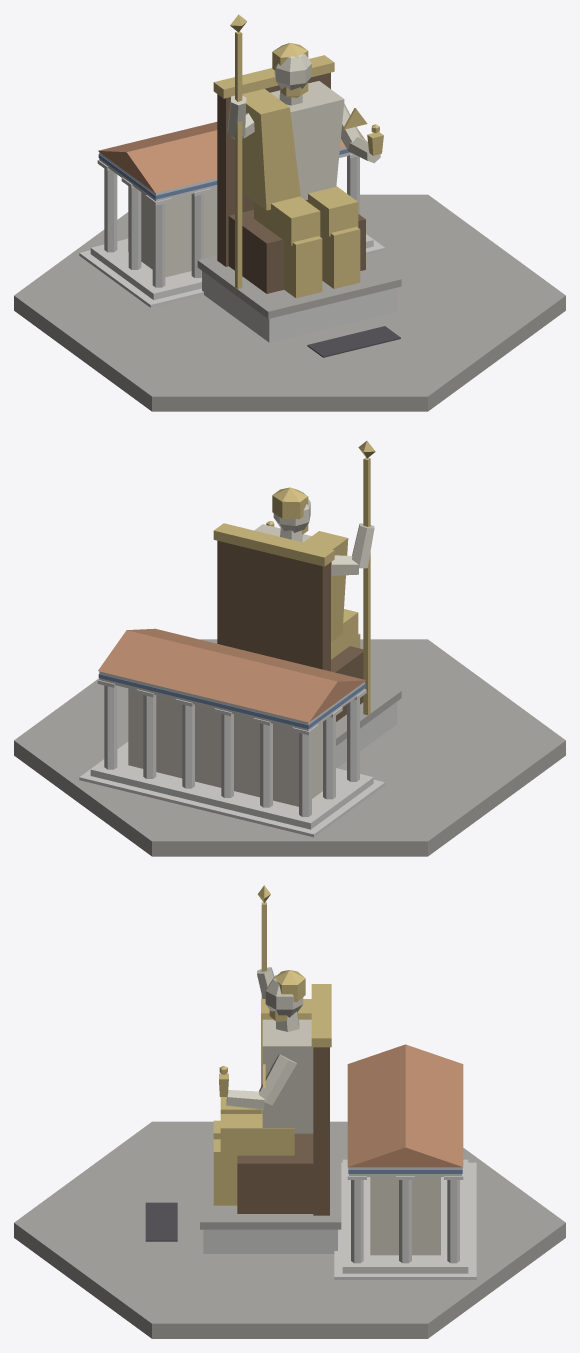
Rendered from statue-of-zeus.glb.
The picture shows the model from 3 angles, top to bottom: view 1: azimuth 30°, elevation 25°; view 2: azimuth 150°, elevation 25°; view 3: azimuth 270°, elevation 25°; orthographic projection.
Visible parts, largest first — view 1: LOD0; view 2: LOD0; view 3: LOD0.
Part boxes in pixels (x1,y1,x2,y2): LOD0: [14, 14, 565, 411]; LOD0: [14, 441, 565, 856]; LOD0: [14, 885, 565, 1338].
Size of what is drawn, in the model's own units: 1.49 by 1.11 by 1.72.
